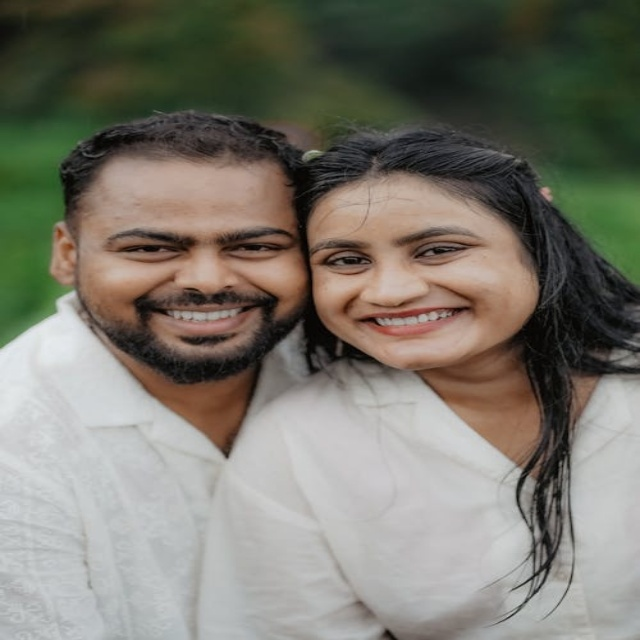Sin_gafas: (317, 219, 488, 274), (92, 219, 294, 265)
Sin_mascara: (138, 297, 270, 369), (355, 295, 479, 365)
